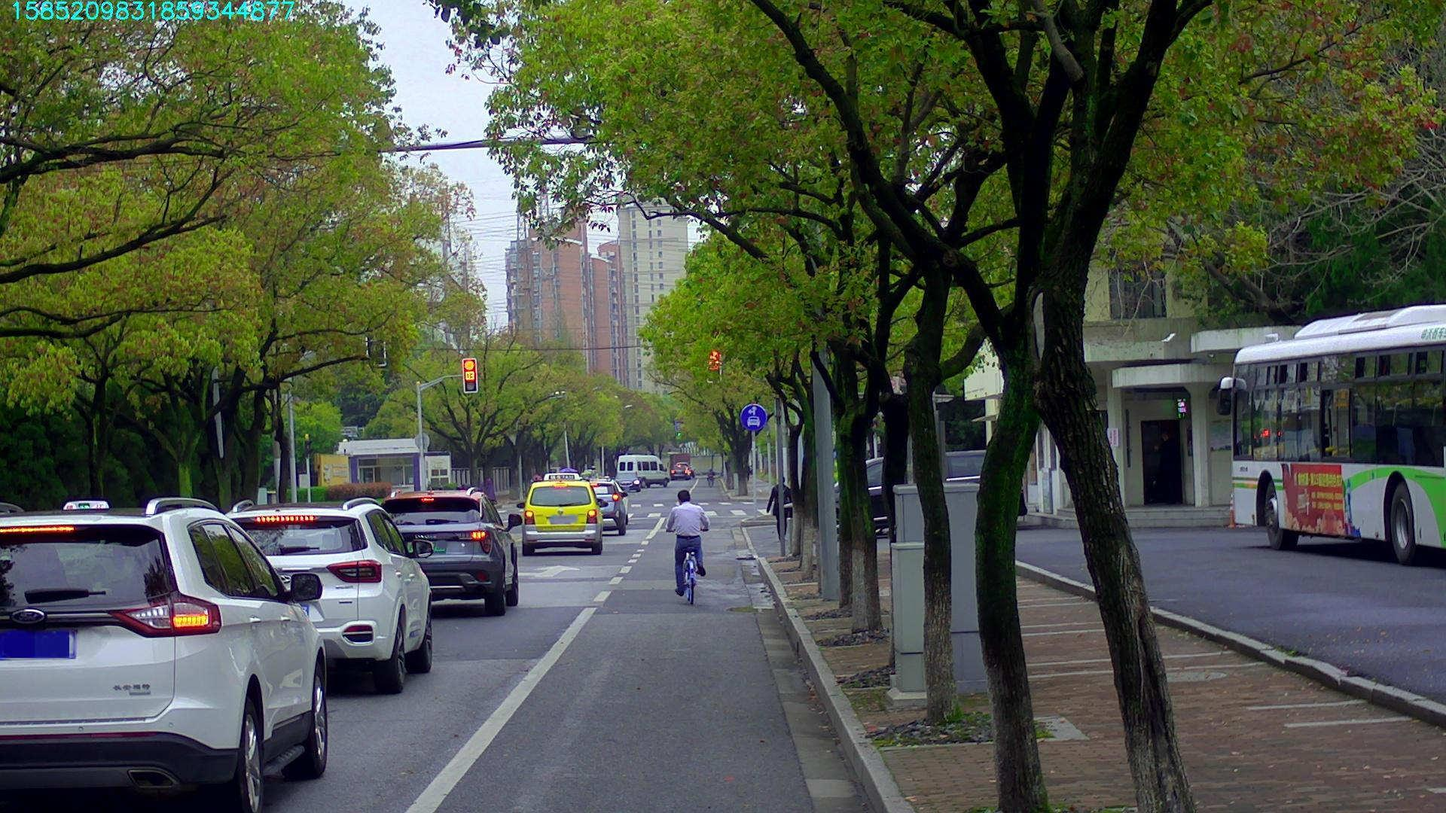red: (707, 344, 720, 381), (462, 359, 476, 391)
